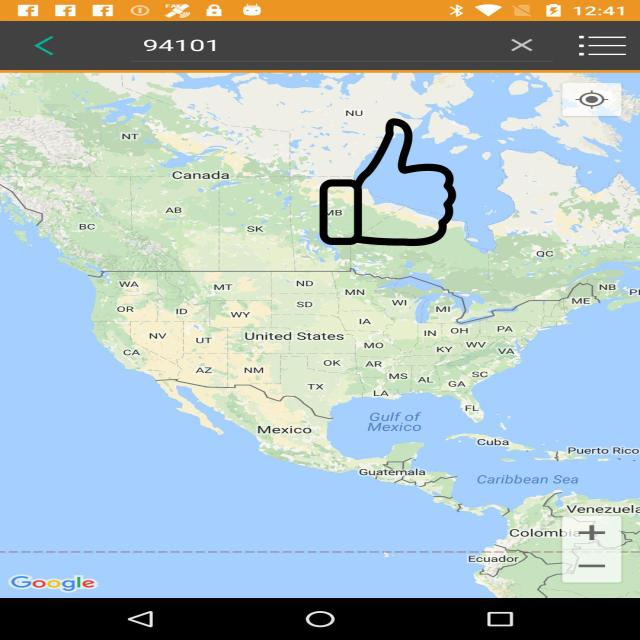privacy zuckering: (318, 118, 458, 246)
